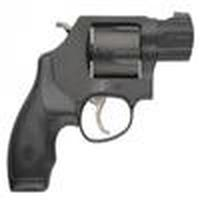gun: (3, 9, 198, 194)
